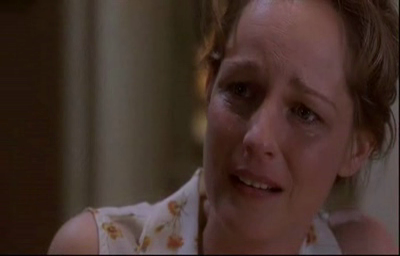cu: (1, 1, 400, 256)
face: (203, 19, 354, 242)
person: (46, 1, 398, 253)
